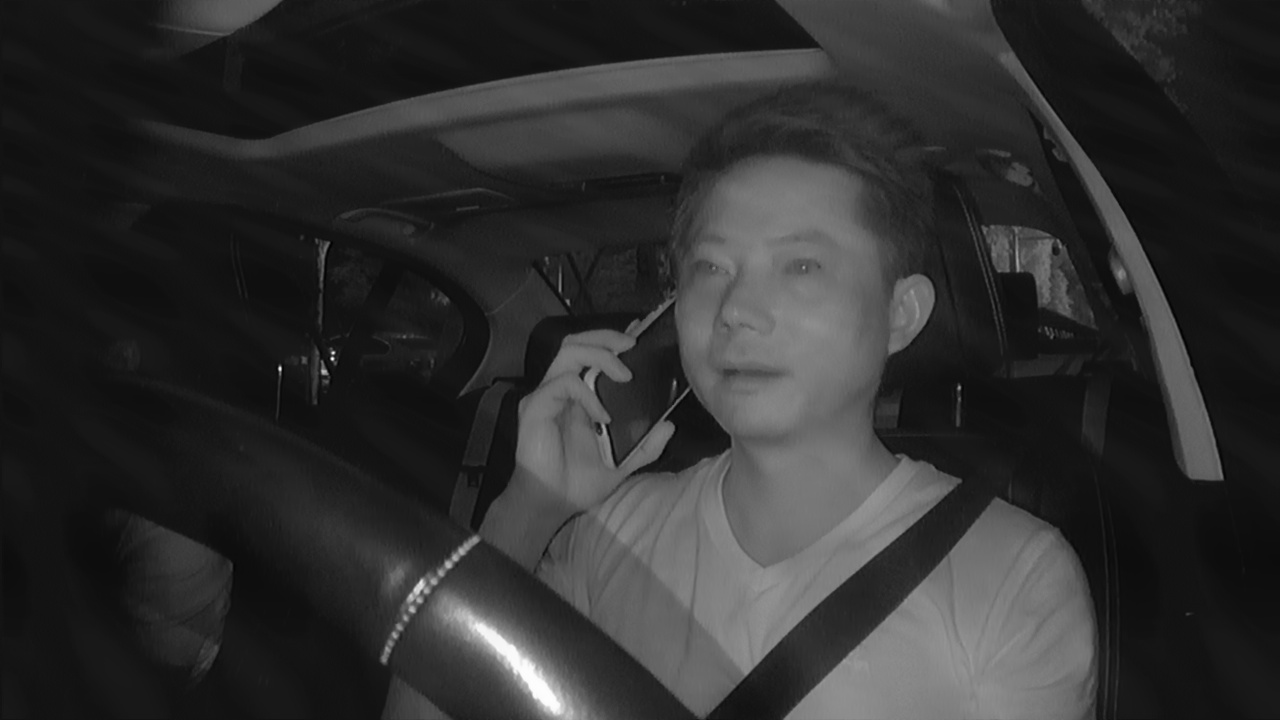hand: (484, 319, 670, 509)
